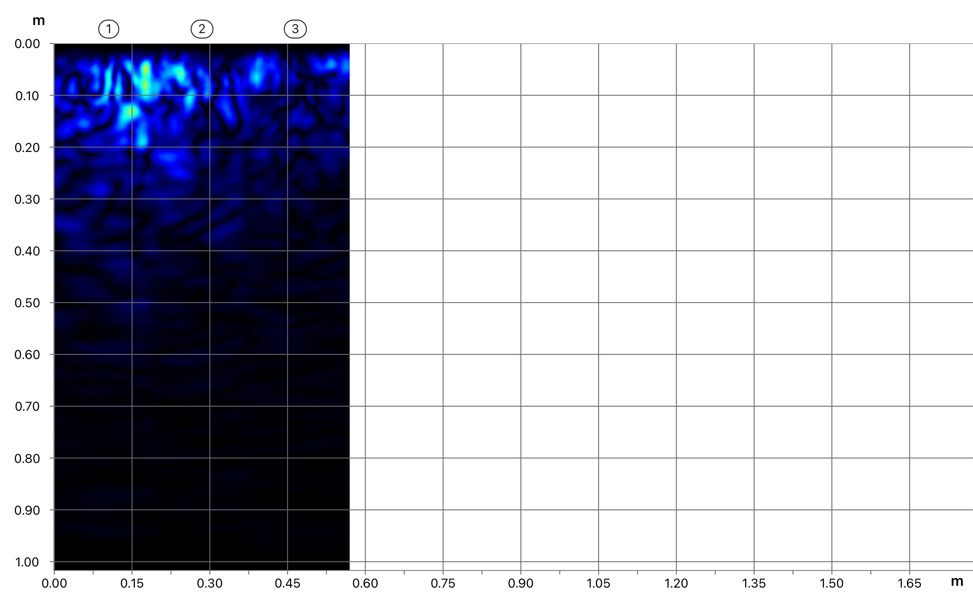crop: (0, 0, 350, 331)
